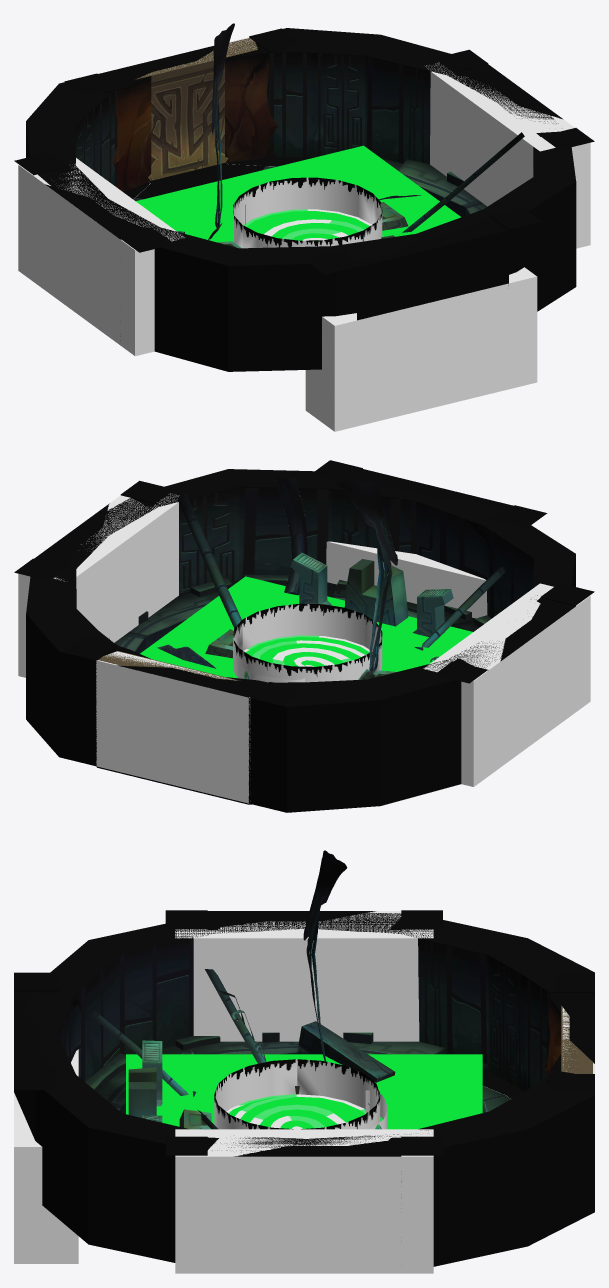
File: Dungeon_052_WarpRoom_010.fbx
3 views of the same model, one above another, from view 1: azimuth 30°, elevation 25°; view 2: azimuth 150°, elevation 25°; view 3: azimuth 270°, elevation 25° (orthographic). The views are drawn at different scales.
Visible parts, largest first — view 1: Dun_011_WarpRoom_002_wall, DoorWay_NavMask (4), Dun_011_Door_002 (×4), DoorWay_NavMask (3), DoorWay_NavMask (2), EF_Dun_Portal_WarpRoom, Dun_011_Door_002_old, Dun_011_Door_003_WarpRoom, EF_Dun_Portal_WarpRoom5, Dun_011_WarpRoom_002_object01, Dun_011_WarpRoom_002_ground, Dun_011_Door_002_shadow (+2 smaller); view 2: Dun_011_WarpRoom_002_wall, DoorWay_NavMask (3), DoorWay_NavMask (1), Dun_011_WarpRoom_002_object01, DoorWay_NavMask (2), EF_Dun_Portal_WarpRoom, Dun_011_Door_002 (×4), EF_Dun_Portal_WarpRoom5, DoorWay_NavMask (4), Dun_011_WarpRoom_002_ground, Dun_011_Door_002_old, EF_Dun_Portal_WarpRoom6 (+1 smaller); view 3: Dun_011_WarpRoom_002_wall, DoorWay_NavMask (2), DoorWay_NavMask (3), EF_Dun_Portal_WarpRoom, Dun_011_Door_002 (×4), Dun_011_WarpRoom_002_object01, EF_Dun_Portal_WarpRoom5, DoorWay_NavMask (4), Dun_011_WarpRoom_002_ground, Dun_011_Door_002_old, EF_Dun_Portal_WarpRoom6, Dun_011_Door_003_WarpRoom (+1 smaller).
Boxes of the visible parts, box(x1,y1,x2,y2) form: Dun_011_WarpRoom_002_wall: box(26, 28, 576, 371); DoorWay_NavMask (4): box(305, 267, 537, 431); Dun_011_Door_002 (×4): box(14, 37, 594, 340); DoorWay_NavMask (3): box(18, 158, 184, 356); DoorWay_NavMask (2): box(425, 62, 590, 248); EF_Dun_Portal_WarpRoom: box(136, 145, 460, 242); Dun_011_Door_002_old: box(64, 28, 301, 190); Dun_011_Door_003_WarpRoom: box(135, 38, 257, 180); EF_Dun_Portal_WarpRoom5: box(233, 177, 382, 248); Dun_011_WarpRoom_002_object01: box(176, 23, 524, 248); Dun_011_WarpRoom_002_ground: box(133, 158, 487, 217); Dun_011_Door_002_shadow: box(136, 162, 265, 198); Dun_011_WarpRoom_002_wall: box(26, 469, 575, 812); DoorWay_NavMask (3): box(423, 583, 590, 786); DoorWay_NavMask (1): box(96, 651, 250, 803); Dun_011_WarpRoom_002_object01: box(157, 476, 505, 804); DoorWay_NavMask (2): box(18, 493, 179, 677); EF_Dun_Portal_WarpRoom: box(140, 576, 472, 678); Dun_011_Door_002 (×4): box(14, 460, 594, 804); EF_Dun_Portal_WarpRoom5: box(233, 603, 382, 682); DoorWay_NavMask (4): box(326, 541, 487, 618); Dun_011_WarpRoom_002_ground: box(96, 574, 491, 804); Dun_011_Door_002_old: box(65, 637, 301, 767); EF_Dun_Portal_WarpRoom6: box(243, 635, 369, 666); Dun_011_WarpRoom_002_wall: box(14, 912, 594, 1266); DoorWay_NavMask (2): box(175, 1129, 433, 1273); DoorWay_NavMask (3): box(175, 911, 433, 1041); EF_Dun_Portal_WarpRoom: box(126, 1054, 482, 1129); Dun_011_Door_002 (×4): box(14, 910, 594, 1182); Dun_011_WarpRoom_002_object01: box(90, 850, 395, 1129); EF_Dun_Portal_WarpRoom5: box(214, 1059, 380, 1129); DoorWay_NavMask (4): box(14, 1049, 78, 1263); Dun_011_WarpRoom_002_ground: box(85, 1032, 510, 1114); Dun_011_Door_002_old: box(546, 974, 594, 1091); EF_Dun_Portal_WarpRoom6: box(226, 1094, 366, 1129); Dun_011_Door_003_WarpRoom: box(561, 1005, 592, 1073).
Size of what is drawn, in the model's own units: 9 by 5.5 by 9.
